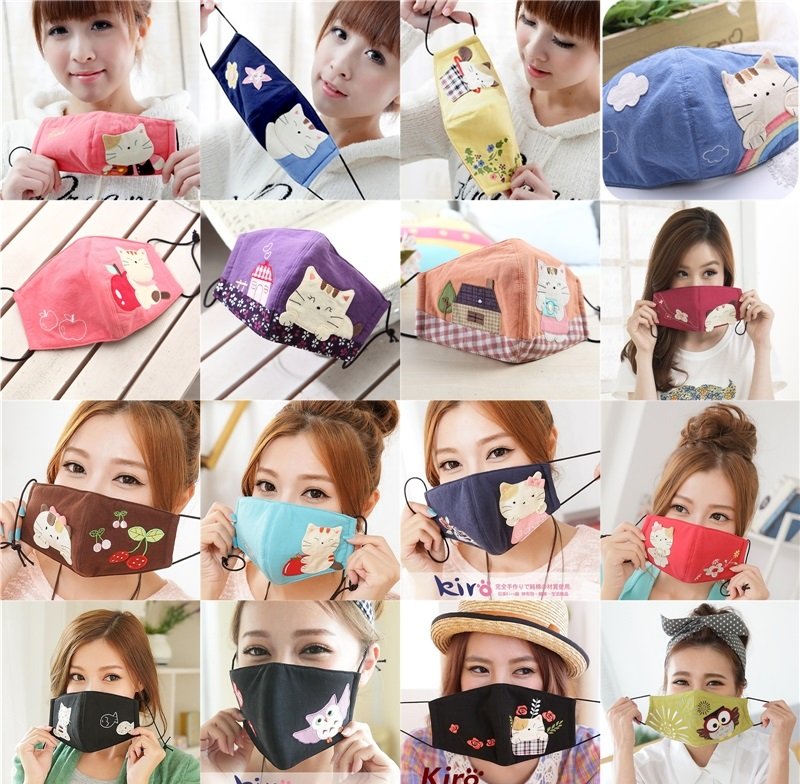face: (311, 6, 402, 118), (41, 1, 132, 102), (517, 1, 594, 90)
face_mask: (46, 420, 163, 567), (236, 598, 353, 745), (244, 434, 348, 577), (430, 408, 537, 537), (458, 634, 546, 743), (656, 471, 735, 580), (60, 642, 137, 742), (664, 648, 736, 738), (668, 244, 724, 310)
